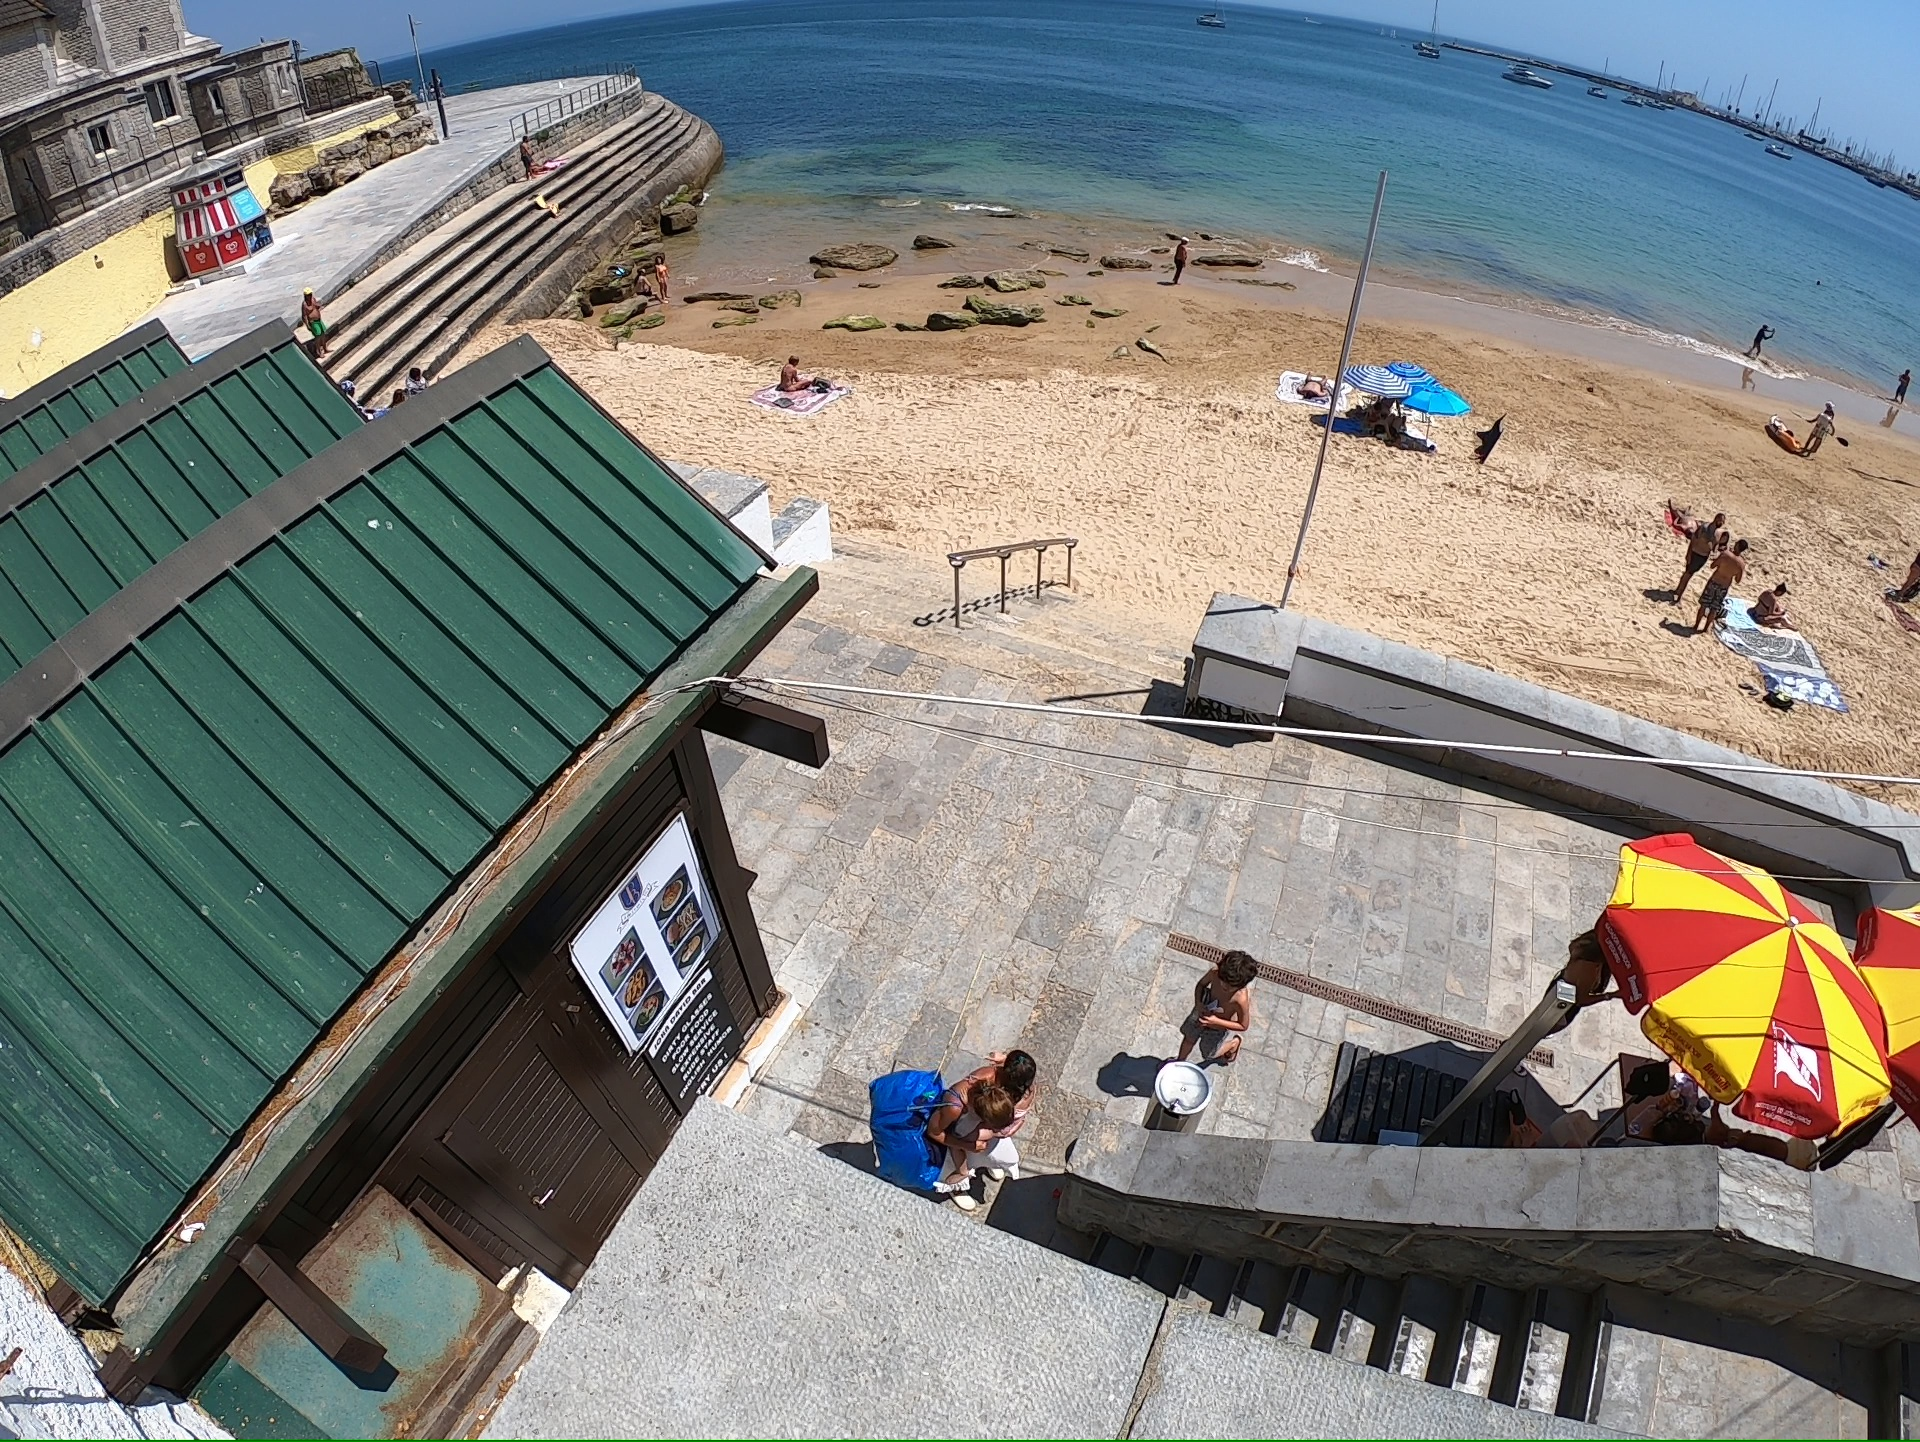person: (1186, 938, 1261, 1049), (954, 1055, 1029, 1153), (1755, 579, 1790, 626), (776, 350, 802, 390), (1813, 399, 1836, 441), (1746, 323, 1777, 354), (1294, 370, 1328, 397), (1172, 233, 1191, 279), (1700, 508, 1725, 542), (1893, 367, 1912, 403), (1727, 536, 1752, 564)
